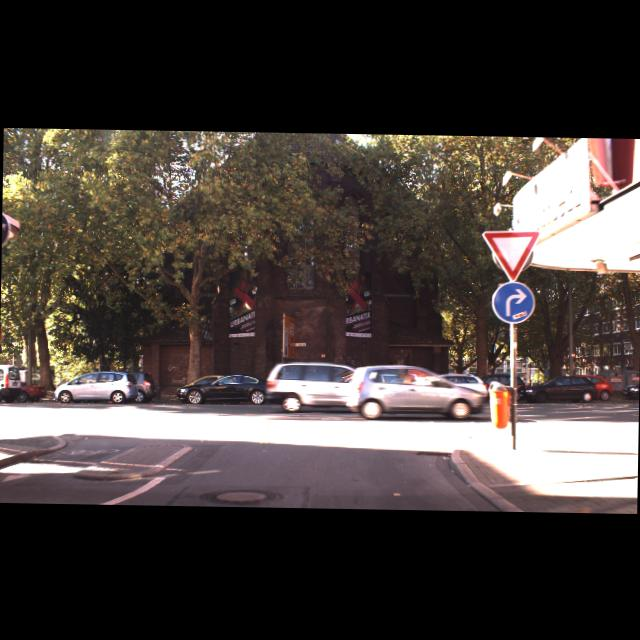mandatory: (491, 280, 534, 323)
other: (480, 229, 540, 282)
